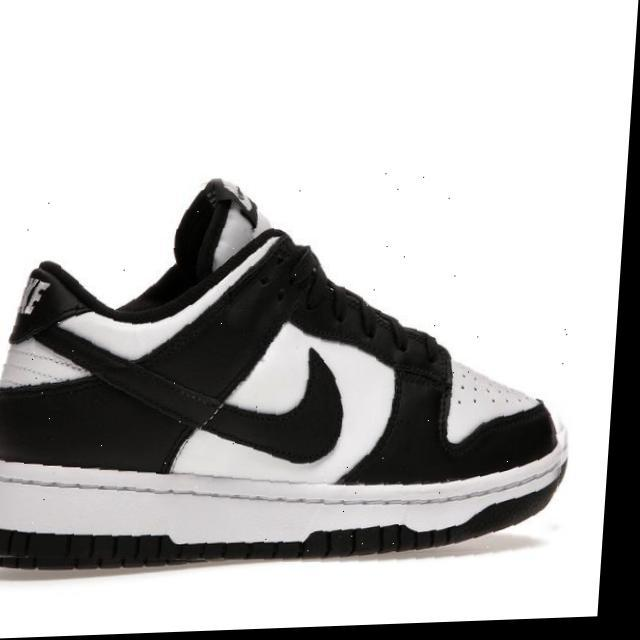J1_InsoleChar: (1, 177, 569, 573)
J1_StitchPattern: (2, 455, 567, 570), (1, 456, 568, 512), (2, 522, 456, 570), (439, 355, 546, 445), (299, 523, 451, 559), (450, 360, 535, 413), (1, 341, 88, 389), (201, 175, 261, 229), (17, 274, 52, 318), (229, 180, 260, 228)
